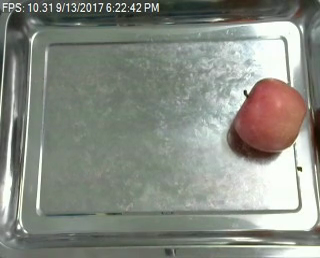Apple: (231, 73, 307, 159)
